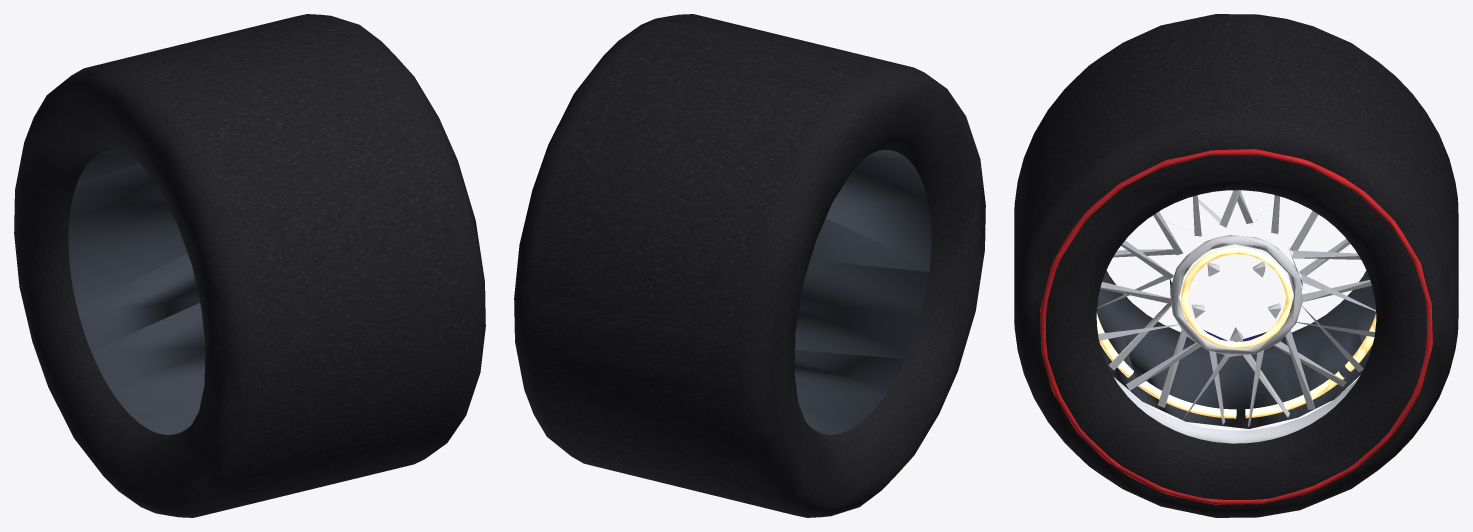
File: tyre-mesh-lp.glb
The picture shows the model from 3 angles, left to right: view 1: azimuth 30°, elevation 25°; view 2: azimuth 150°, elevation 25°; view 3: azimuth 270°, elevation 25°; orthographic projection. The views are drawn at different scales.
Visible parts, largest first — view 1: Tyre_Rubber, Rim; view 2: Tyre_Rubber, Rim; view 3: Tyre_Rubber, Rim, Rim_Spokes, Tyre_Stripe, Chrome, Rim_Lip, LED_Ring, LED_Seg_1, LED_Seg_8.
Boxes of the visible parts, bbox=[...] form: Tyre_Rubber: bbox=[14, 14, 485, 517]; Rim: bbox=[68, 150, 205, 434]; Tyre_Rubber: bbox=[514, 14, 985, 517]; Rim: bbox=[794, 150, 931, 434]; Tyre_Rubber: bbox=[1014, 14, 1458, 517]; Rim: bbox=[1096, 270, 1375, 428]; Rim_Spokes: bbox=[1097, 190, 1375, 427]; Tyre_Stripe: bbox=[1040, 149, 1432, 504]; Chrome: bbox=[1170, 235, 1302, 356]; Rim_Lip: bbox=[1114, 376, 1359, 443]; LED_Ring: bbox=[1181, 248, 1291, 348]; LED_Seg_1: bbox=[1138, 381, 1236, 418]; LED_Seg_8: bbox=[1245, 371, 1345, 418].
Bounding box in the file's own units: 0.1804 × 0.2734 × 0.2734.
16 materials, 1 textured.
